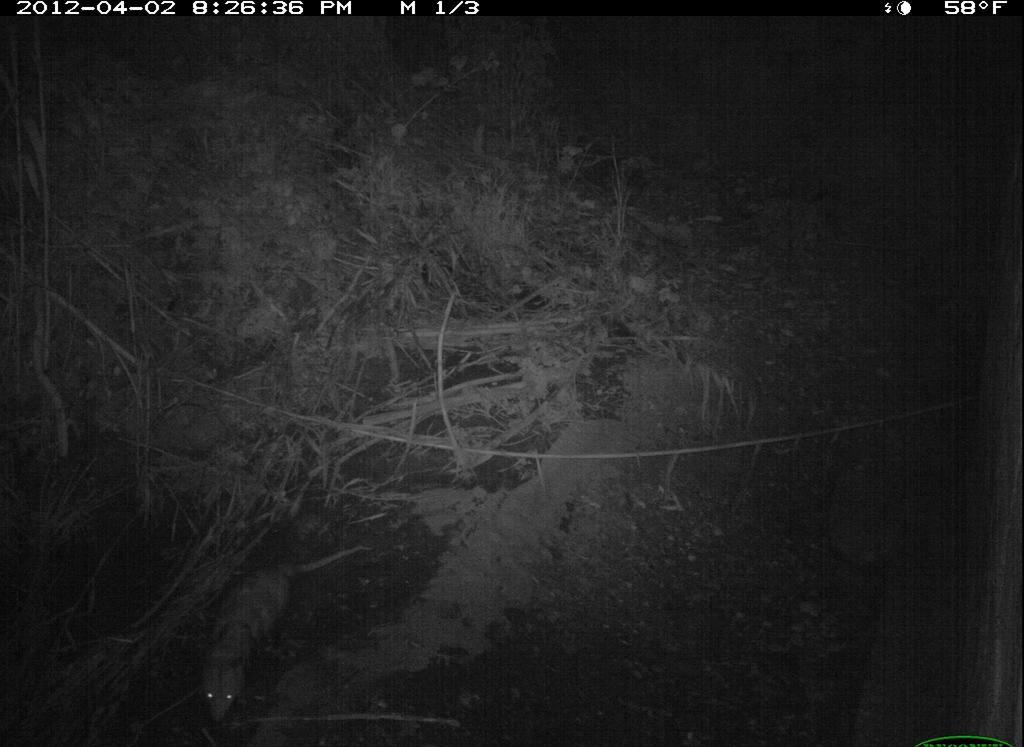opossum: (172, 537, 381, 737)
